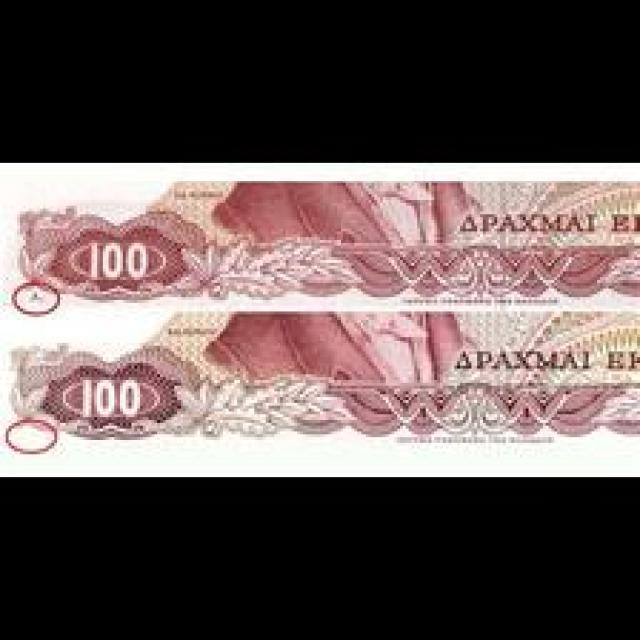banknote: (1, 305, 639, 471), (2, 163, 630, 311), (71, 369, 151, 430), (80, 231, 160, 288)
